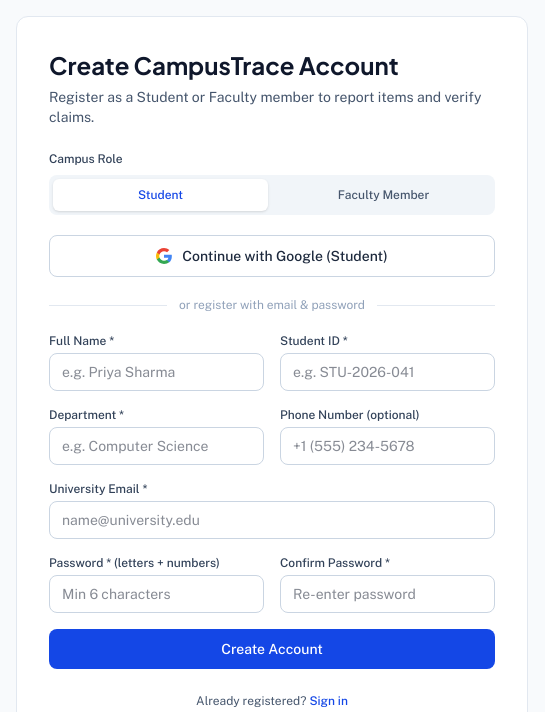
Test: Validation Testing Suite › TC-VAL-04: Rejects mismatched password and confirm password entries
Type "Priya Sharma" into the field labelled "Full Name *" at point(156, 372), box left=49, top=353, right=264, bottom=391
Type "STU-2026-041" into the field labelled "Student ID *" at point(388, 372), box left=280, top=353, right=495, bottom=391
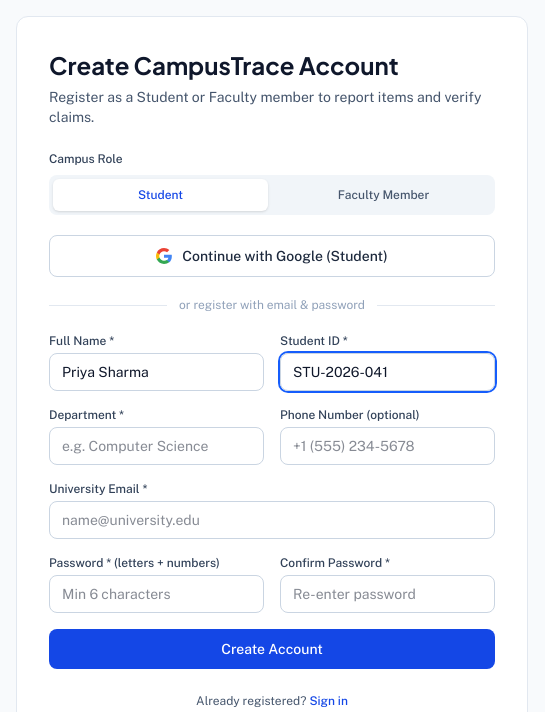
Type "Computer Science" into the field labelled "Department *" at point(156, 446), box left=49, top=427, right=264, bottom=465
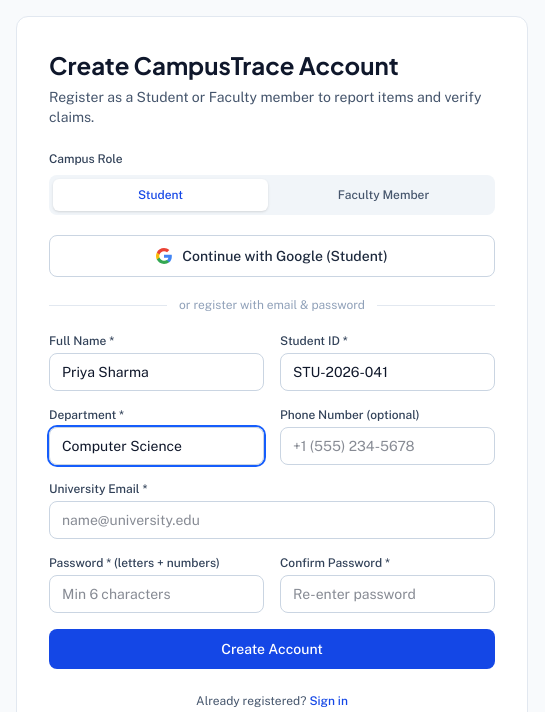
Type "priya@university.edu" into the field labelled "University Email *" at point(272, 520), box left=49, top=501, right=495, bottom=539
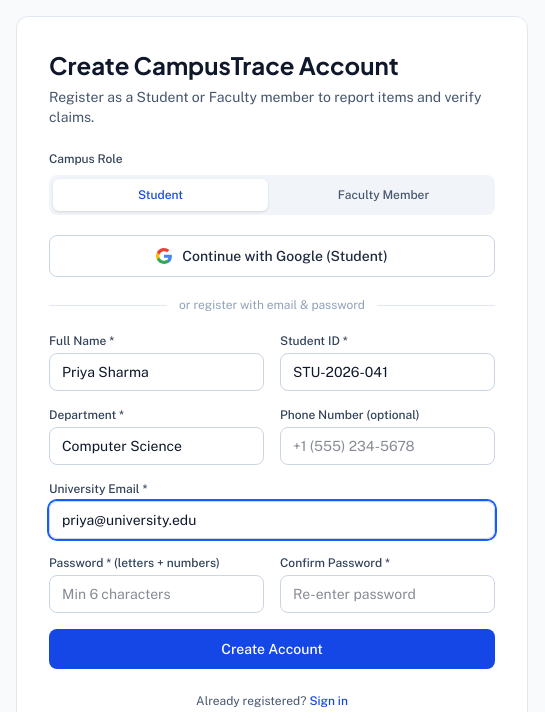
Type "Campus2026" into the password field labelled "Password * (letters + numbers)" at point(156, 594), box left=49, top=575, right=264, bottom=613
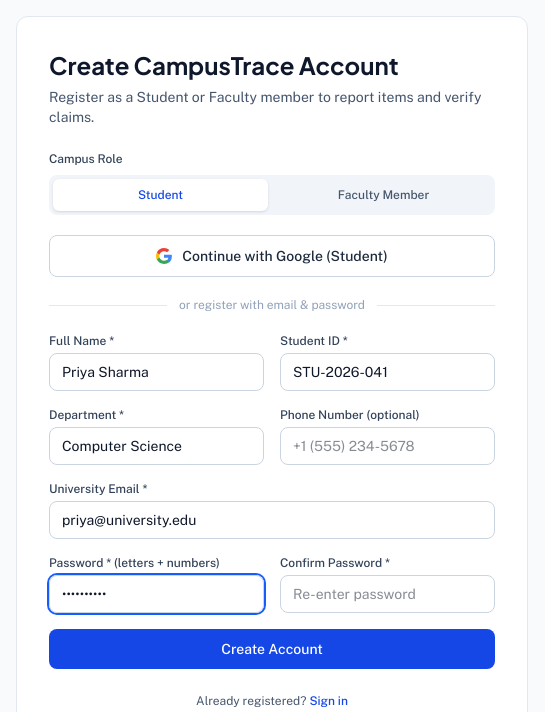
Type "Campus9999" into the password field labelled "Confirm Password *" at point(388, 594), box left=280, top=575, right=495, bottom=613
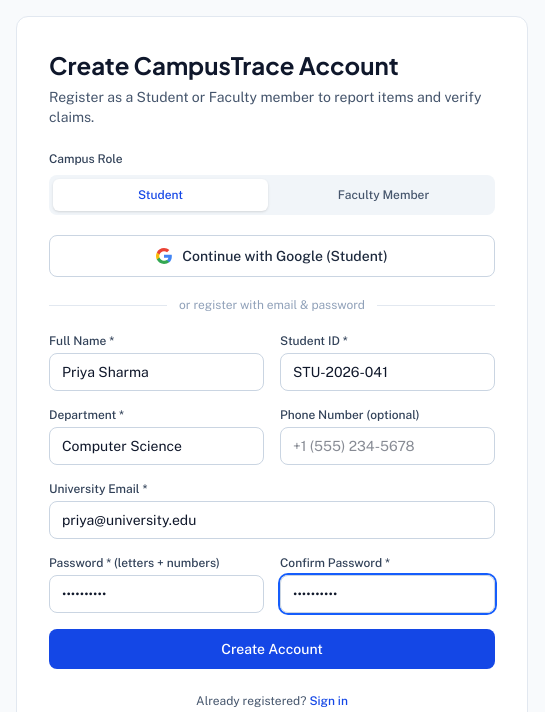
Click the button "Create Account" at point(272, 649), box left=49, top=629, right=495, bottom=669
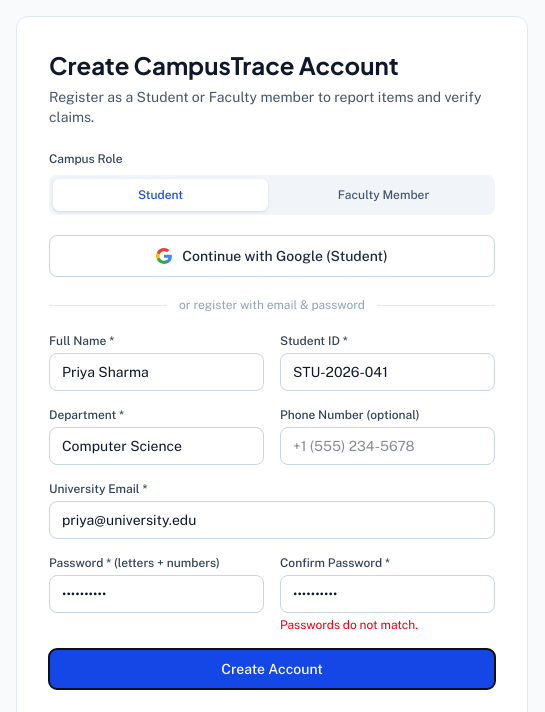
expect the text "Passwords do not match." is shown: met, box left=280, top=618, right=418, bottom=632
